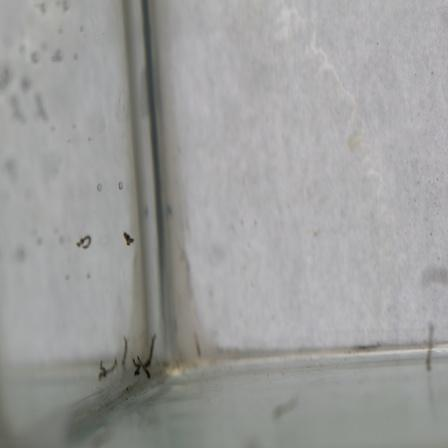Jentik-Nyamuk: (133, 331, 158, 385), (121, 229, 137, 248)
